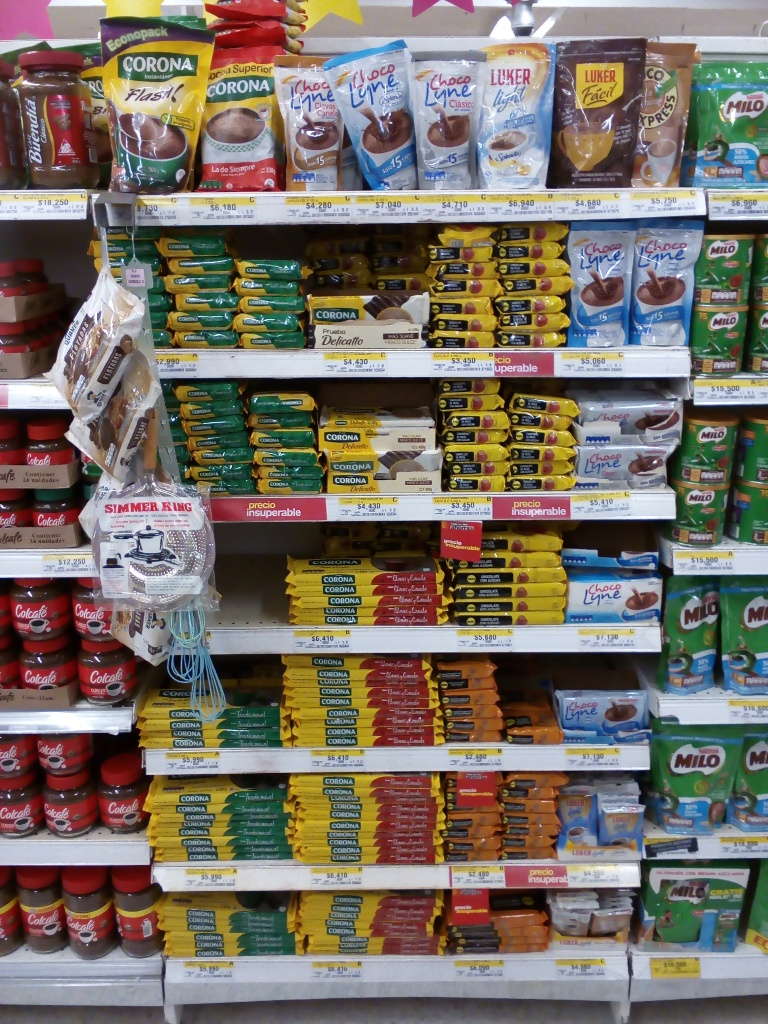COL0170203LAT40000: (701, 232, 757, 307)
COL0170205DYP20000: (690, 63, 765, 189)
COL0170205DYP50000: (659, 575, 717, 703)
